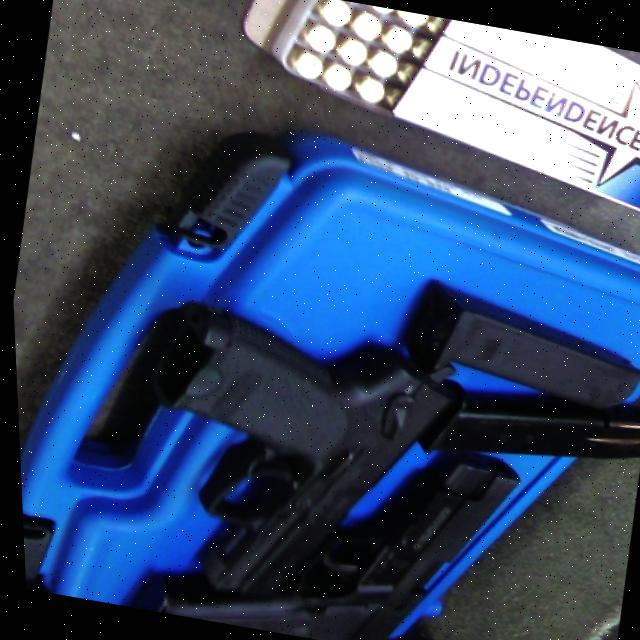pistol: (118, 303, 458, 629), (114, 408, 527, 640)
